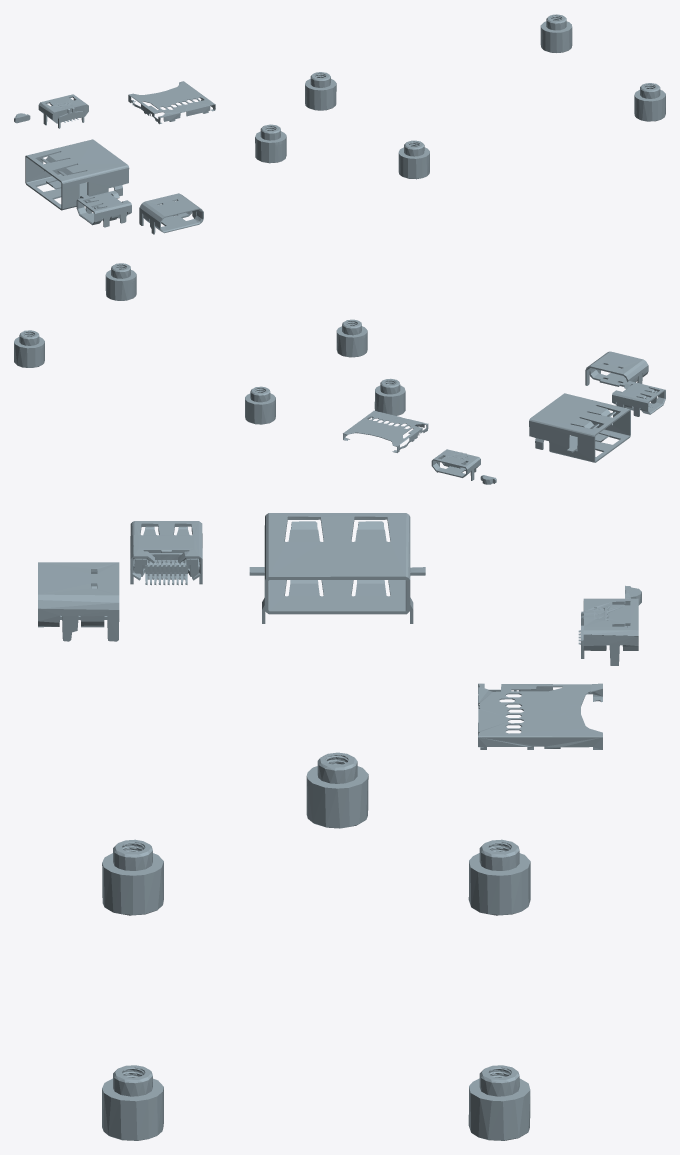
File: Board_connectors_2.dae
The picture shows the model from 3 angles, top to bottom: view 1: azimuth 30°, elevation 25°; view 2: azimuth 150°, elevation 25°; view 3: azimuth 270°, elevation 25°; orthographic projection. The views are drawn at different scales.
Parts seen in each view (by area): view 1: Board_connectors_2; view 2: Board_connectors_2; view 3: Board_connectors_2.
Boxes of the visible parts, x1,y1,x2,y2 form: Board_connectors_2: [14, 14, 665, 234]; Board_connectors_2: [14, 263, 665, 484]; Board_connectors_2: [38, 513, 641, 1140].
Size of the model in its own units: 0.1159 by 0.0543 by 0.00853.
Materials: 1 (1 with a texture image).
